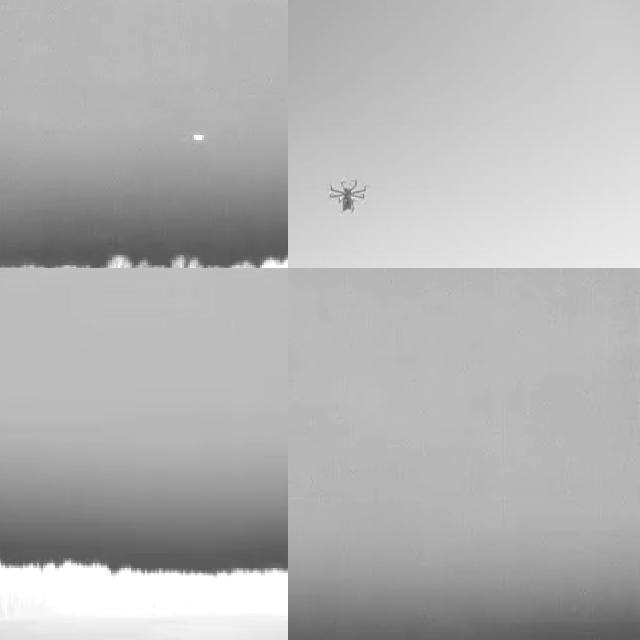1: (186, 128, 216, 148)
drone: (325, 175, 374, 223)
